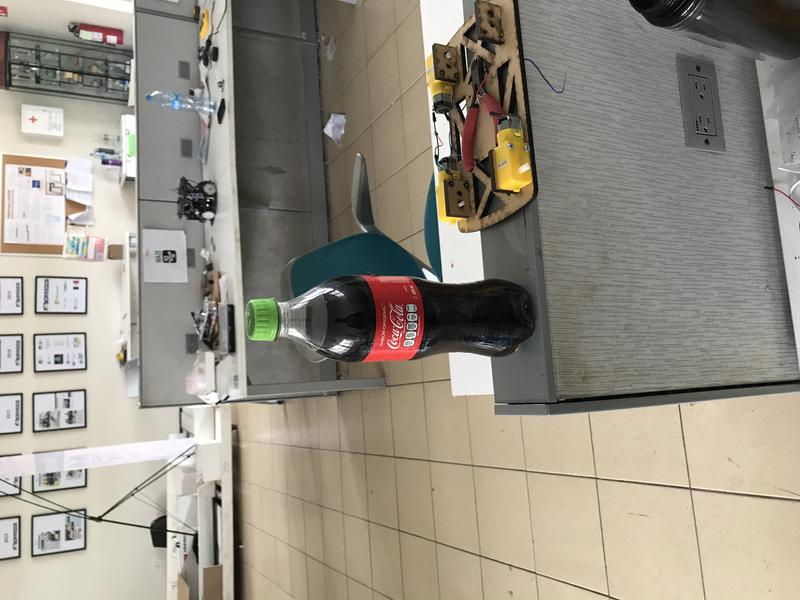coca_cola: (244, 273, 537, 364)
